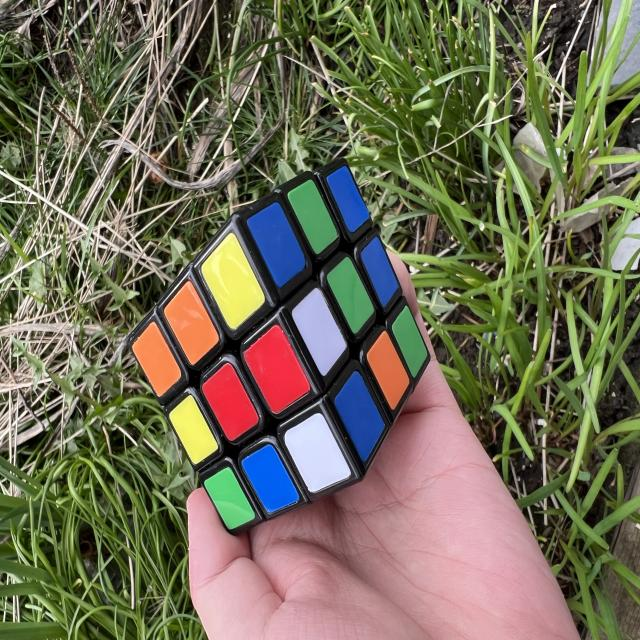blue: (325, 369, 396, 463), (243, 200, 313, 289), (238, 441, 302, 517), (355, 235, 405, 308), (323, 164, 374, 233)
center: (195, 360, 264, 443), (321, 255, 381, 335)
green: (284, 178, 343, 255), (201, 464, 258, 533), (385, 304, 435, 378)
orange: (153, 276, 226, 367), (358, 329, 419, 411), (125, 320, 188, 398)
red: (236, 322, 316, 416)
white: (285, 286, 355, 377), (279, 410, 353, 496)
yellow: (190, 231, 272, 332), (163, 392, 222, 467)
